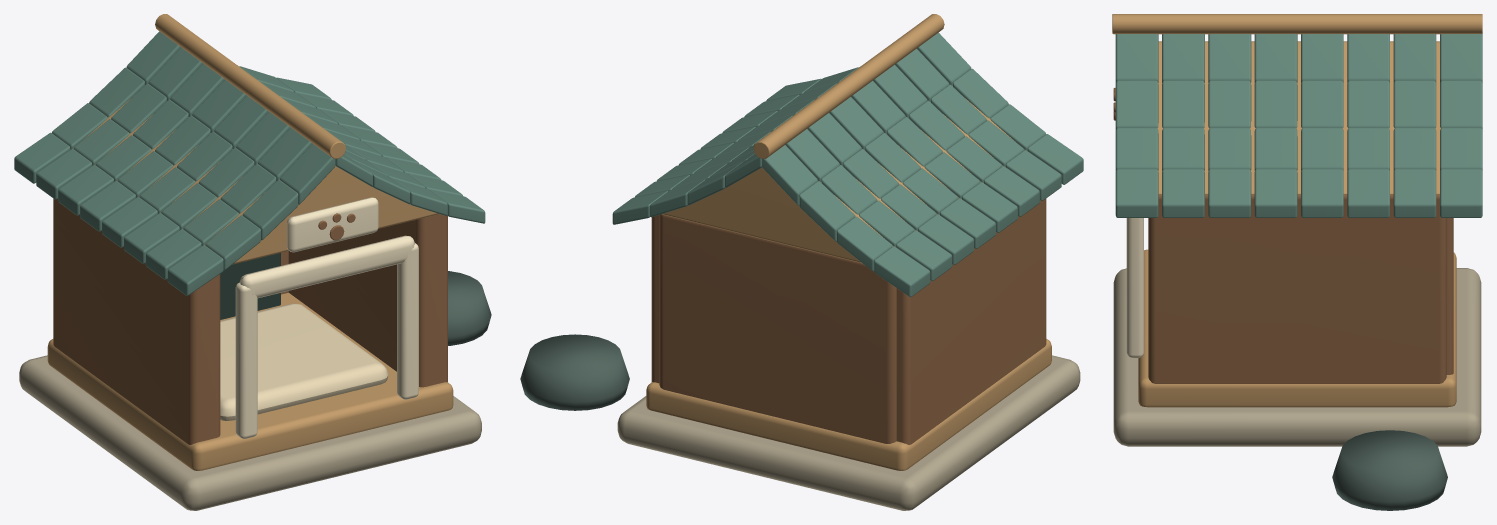
Rendered from cozy_doghouse.glb.
The picture shows the model from 3 angles, left to right: view 1: azimuth 30°, elevation 25°; view 2: azimuth 150°, elevation 25°; view 3: azimuth 270°, elevation 25°; orthographic projection. The views are drawn at different scales.
Visible parts, largest first — view 1: doghouse_MillRoof, doghouse_Timber, doghouse_TimberLight, doghouse_Stone, doghouse_Trim, doghouse_Canvas, doghouse_Iron, doghouse_IronDark; view 2: doghouse_Timber, doghouse_MillRoof, doghouse_TimberLight, doghouse_Stone, doghouse_Iron; view 3: doghouse_MillRoof, doghouse_Timber, doghouse_TimberLight, doghouse_Stone, doghouse_Iron, doghouse_Trim.
Part boxes in pixels (<box>): doghouse_MillRoof: <box>14,31,485,295</box>; doghouse_Timber: <box>53,198,447,444</box>; doghouse_TimberLight: <box>47,14,453,470</box>; doghouse_Stone: <box>19,355,481,510</box>; doghouse_Trim: <box>235,197,418,438</box>; doghouse_Canvas: <box>220,303,388,420</box>; doghouse_Iron: <box>448,271,491,345</box>; doghouse_IronDark: <box>220,253,280,319</box>; doghouse_Timber: <box>651,199,1046,444</box>; doghouse_MillRoof: <box>612,32,1083,297</box>; doghouse_TimberLight: <box>646,14,1051,470</box>; doghouse_Stone: <box>617,355,1080,510</box>; doghouse_Iron: <box>520,334,629,410</box>; doghouse_MillRoof: <box>1115,34,1482,217</box>; doghouse_Timber: <box>1113,88,1453,383</box>; doghouse_TimberLight: <box>1112,14,1482,407</box>; doghouse_Stone: <box>1113,268,1481,446</box>; doghouse_Iron: <box>1332,430,1447,510</box>; doghouse_Trim: <box>1126,218,1143,358</box>.
Bounding box in the file's own units: 1.8 × 1.37 × 1.28.
